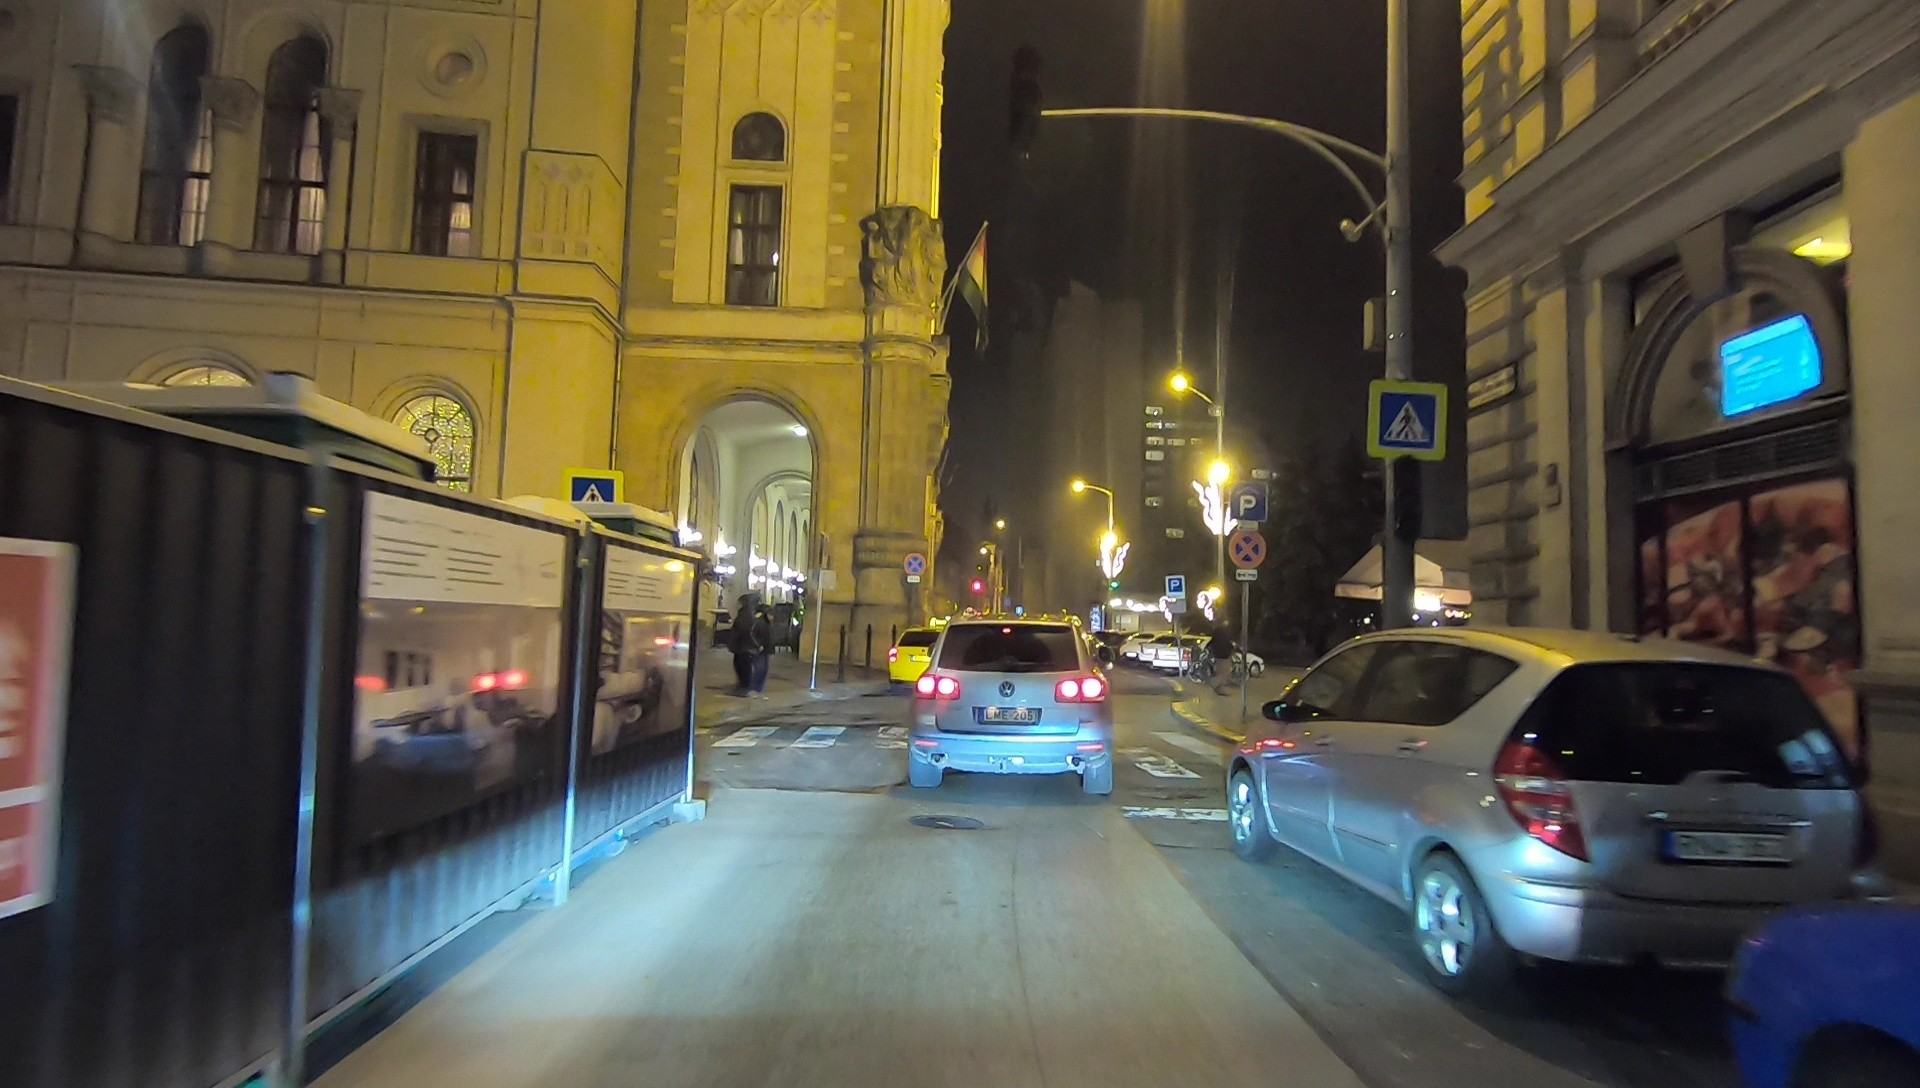person: (728, 592, 755, 698), (1206, 616, 1236, 695), (752, 604, 772, 699)
